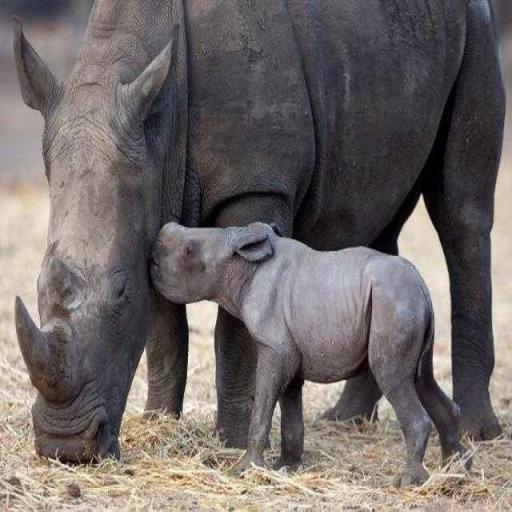Rhino: (12, 0, 506, 469), (148, 218, 473, 488)
